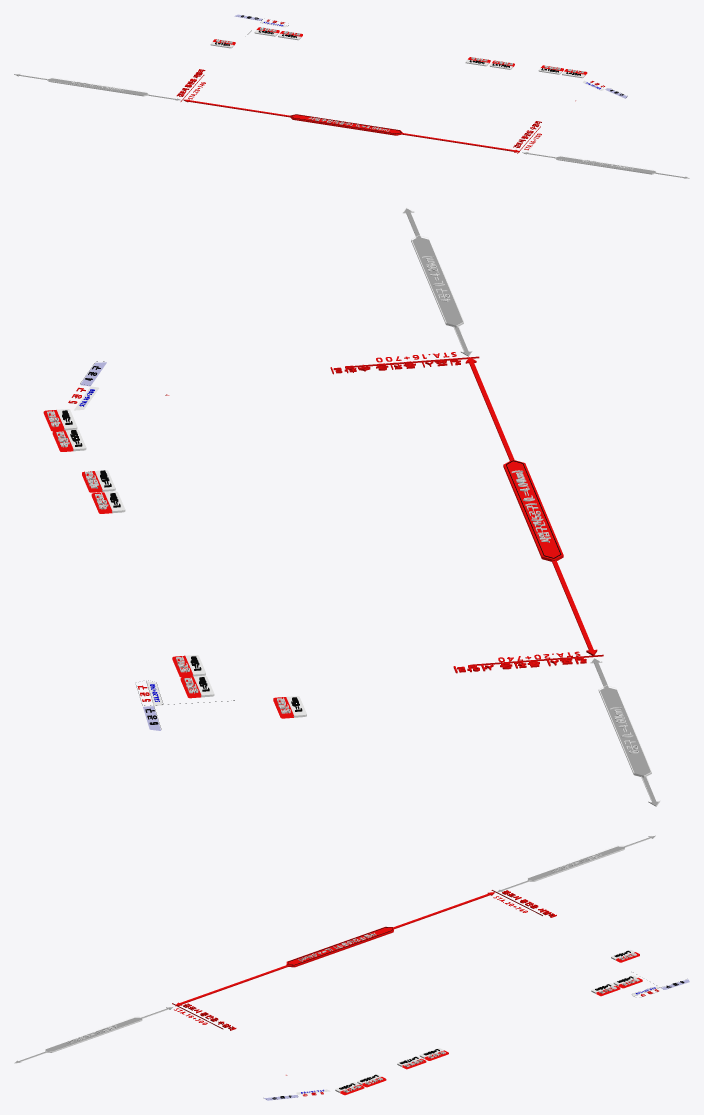
The model's file is icon_kd.glb.
The picture shows the model from 3 angles, top to bottom: view 1: azimuth 30°, elevation 25°; view 2: azimuth 150°, elevation 25°; view 3: azimuth 270°, elevation 25°; orthographic projection. The views are drawn at different scales.
Parts seen in each view (by area): view 1: icon_8, icon_3, icon_11, icon_13, icon_2, icon_1; view 2: icon_8, icon_11, icon_2, icon_3, icon_13, icon_1; view 3: icon_8, icon_2, icon_11, icon_3, icon_13, icon_1.
Boxes of the visible parts, x1,y1,x2,y2 form: icon_8: (176,69,519,152); icon_3: (210,27,585,78); icon_11: (15,74,687,178); icon_13: (14,73,689,178); icon_2: (188,19,604,150); icon_1: (215,15,627,97); icon_8: (453,357,597,673); icon_11: (404,208,658,805); icon_2: (43,352,580,718); icon_3: (47,409,306,717); icon_13: (403,207,659,806); icon_1: (62,361,302,729); icon_8: (175,890,556,1006); icon_2: (174,896,658,1096); icon_11: (15,836,654,1062); icon_3: (335,950,639,1092); icon_13: (14,835,655,1063); icon_1: (266,950,684,1099).
Bounding box in the file's own units: 5607 × 132 × 6303.
